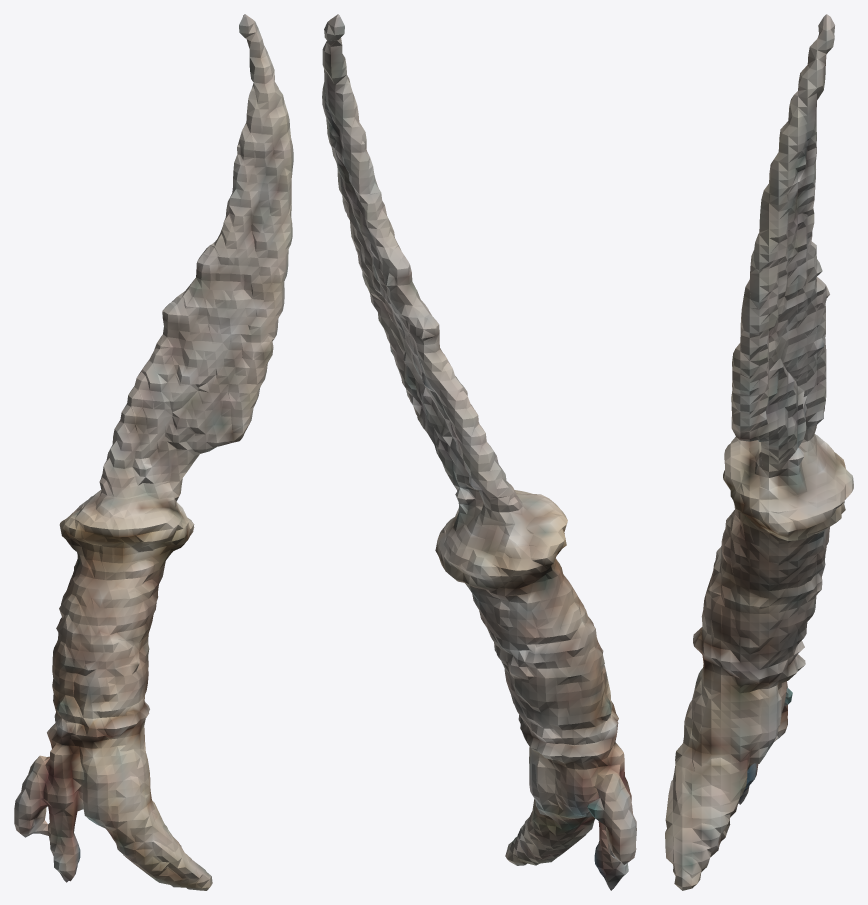
The model's file is weapon-dagger.glb.
3 views of the same model, side by side, from view 1: azimuth 30°, elevation 25°; view 2: azimuth 150°, elevation 25°; view 3: azimuth 270°, elevation 25° (orthographic). The views are drawn at different scales.
Parts seen in each view (by area): view 1: geometry_0; view 2: geometry_0; view 3: geometry_0.
Boxes of the visible parts, x1,y1,x2,y2 form: geometry_0: (14,14,293,890); geometry_0: (322,14,636,890); geometry_0: (665,14,853,890).
Size of the model in its own units: 0.3867 by 1.07 by 0.1952.
